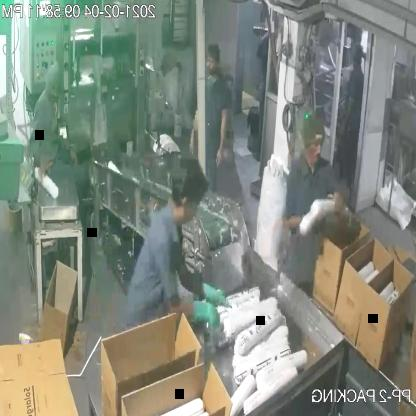glove: (174, 271, 236, 308), (166, 300, 219, 330)
no_glove: (278, 200, 321, 240), (213, 95, 230, 171), (330, 183, 348, 230)
